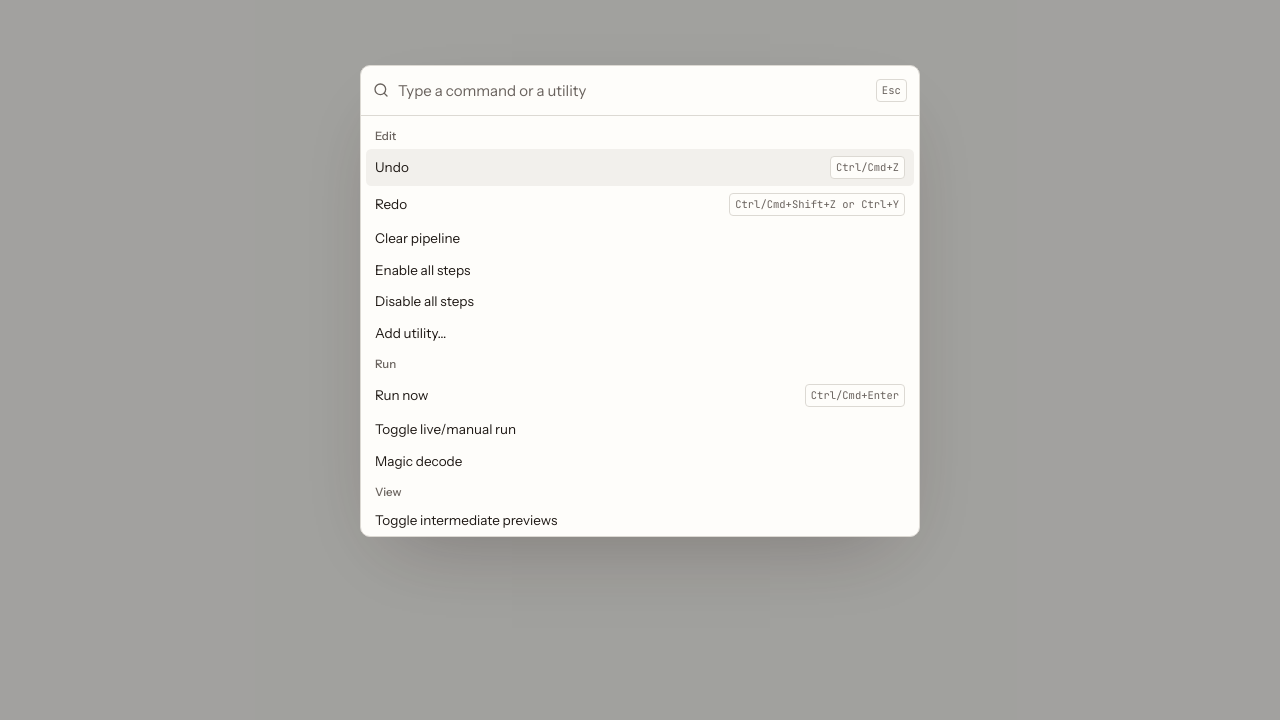
Test: CommandPalette › lists recently run commands first, in their own list (not the utility recents)
Type "go to blog" into the dropdown at (633, 90), box x1=398 y1=82 x2=867 y2=99
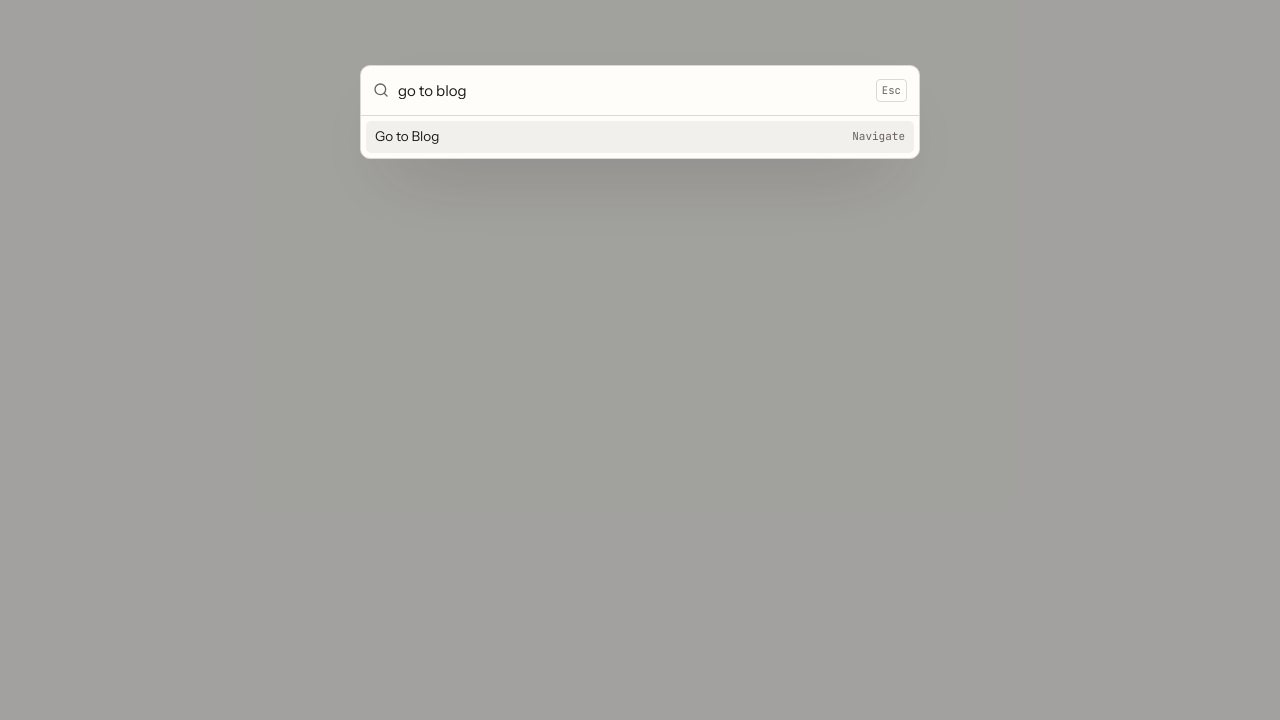
Press Enter in the dropdown, box x1=398 y1=82 x2=867 y2=99
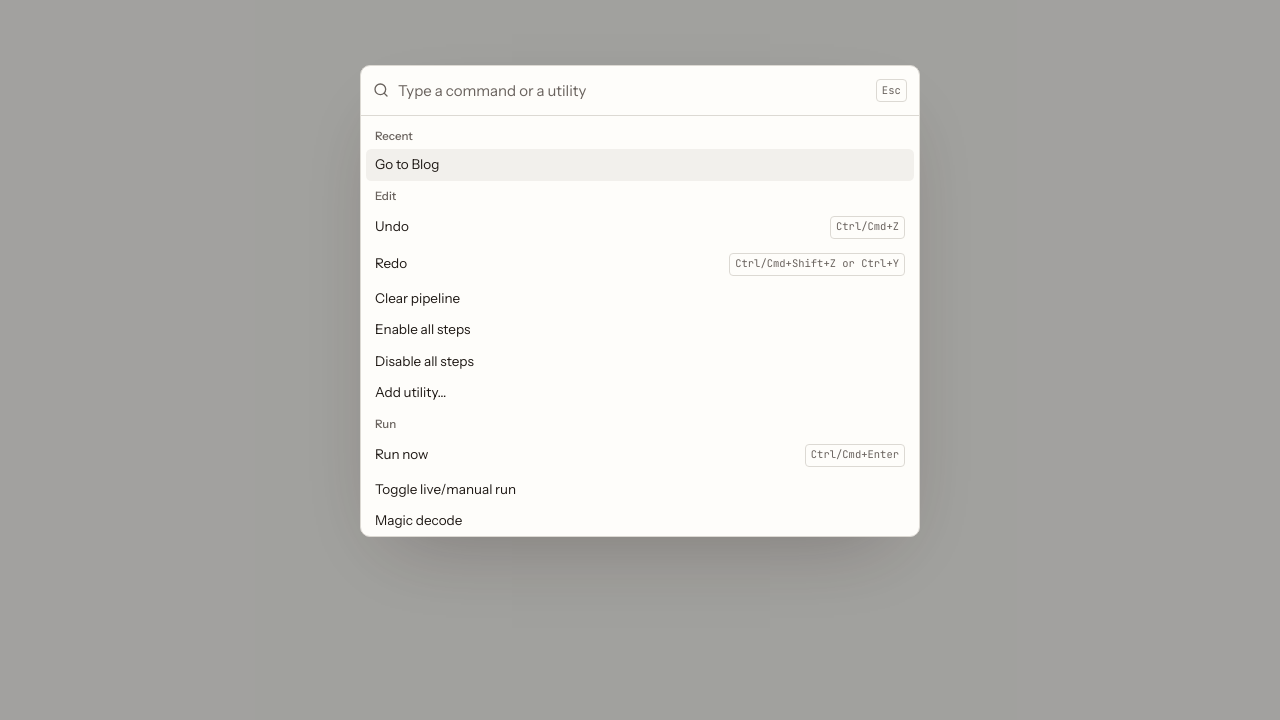
Now the option "Go to Blog" is shown, box x1=366 y1=149 x2=914 y2=180
